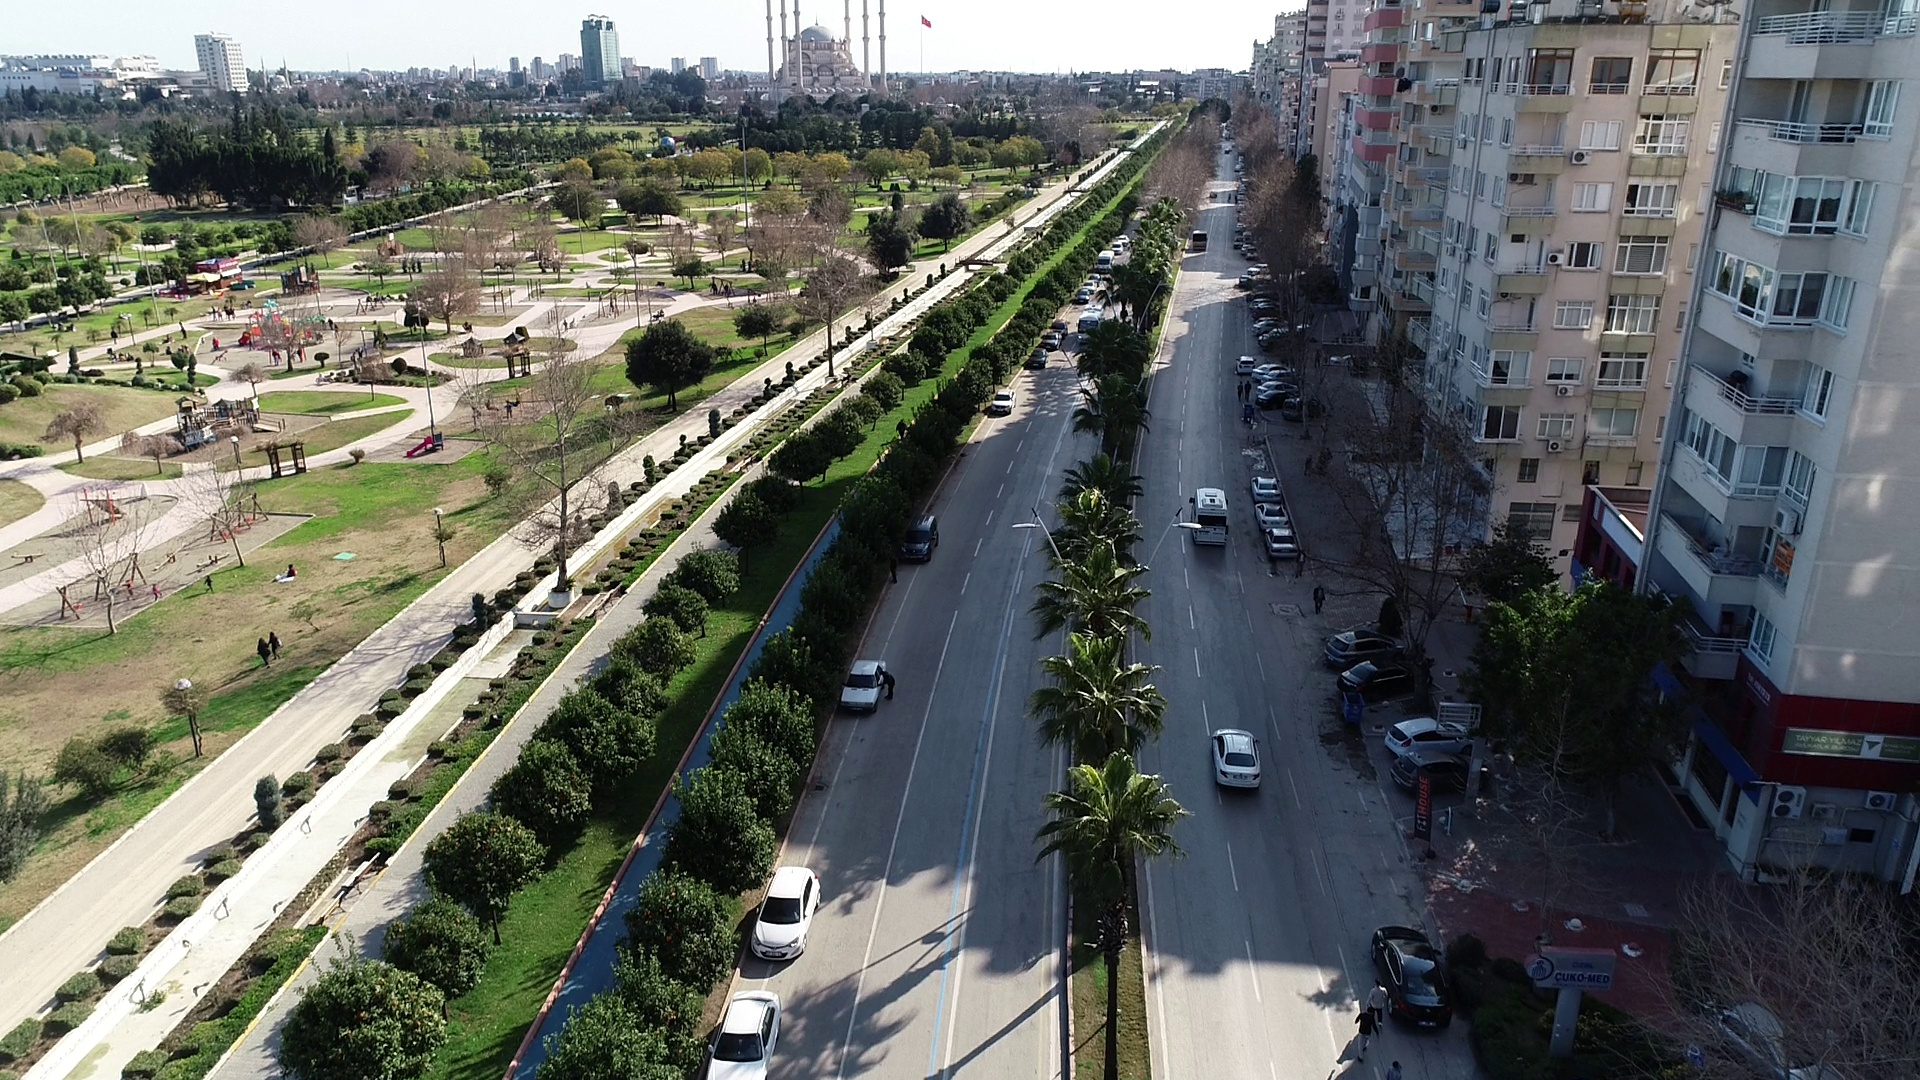car: (1372, 906, 1465, 1033), (735, 857, 833, 966), (1192, 719, 1286, 802), (1390, 741, 1490, 800), (1386, 704, 1474, 761), (1335, 661, 1435, 704), (1319, 629, 1427, 668), (837, 655, 888, 721), (900, 515, 947, 565), (1265, 521, 1304, 563), (1243, 470, 1282, 512), (1253, 502, 1292, 531)
person: (243, 633, 282, 674), (1349, 1006, 1376, 1061), (1366, 982, 1394, 1033), (1308, 582, 1331, 621), (263, 629, 290, 661), (282, 559, 300, 590), (1235, 380, 1247, 410), (1306, 449, 1315, 486)
